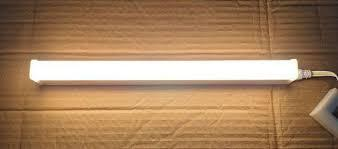Lamp: (22, 54, 307, 89)
